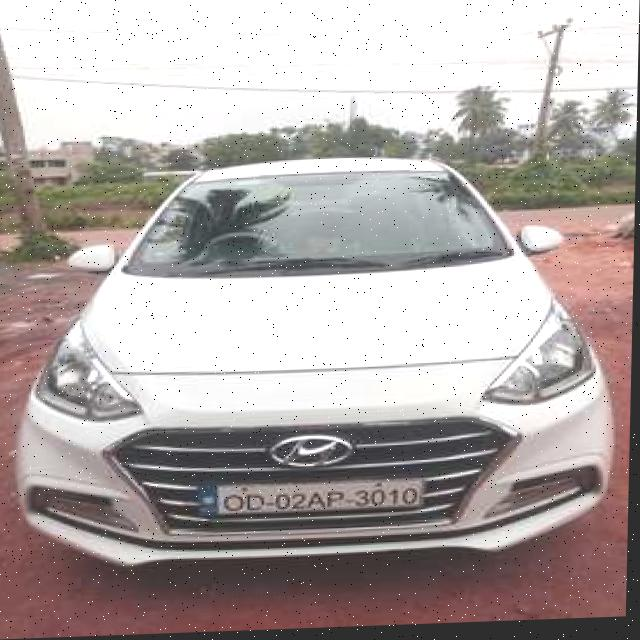plate: (202, 475, 430, 522)
